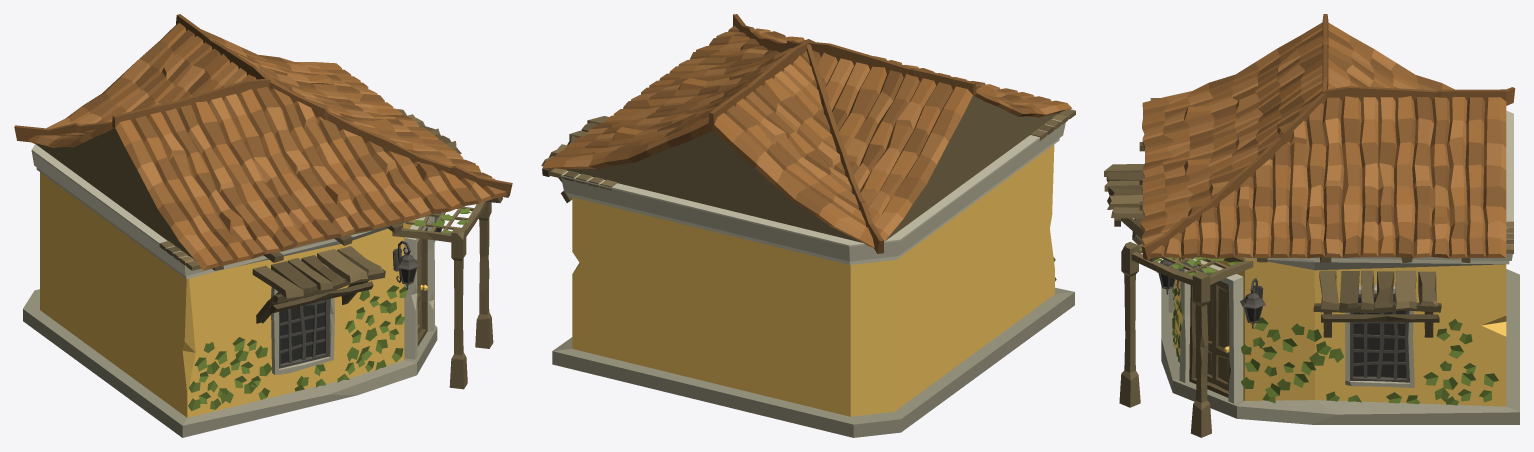
The model's file is Building_2.fbx.
3 renders of one model, left to right at view 1: azimuth 30°, elevation 25°; view 2: azimuth 150°, elevation 25°; view 3: azimuth 270°, elevation 25°, orthographic. The views are drawn at different scales.
Parts seen in each view (by area): view 1: Building_2; view 2: Building_2; view 3: Building_2.
Boxes of the visible parts, bbox=[...] form: Building_2: bbox=[14, 14, 512, 437]; Building_2: bbox=[541, 14, 1075, 437]; Building_2: bbox=[1104, 14, 1519, 437].
Bounding box in the file's own units: 776 × 541 × 759.
